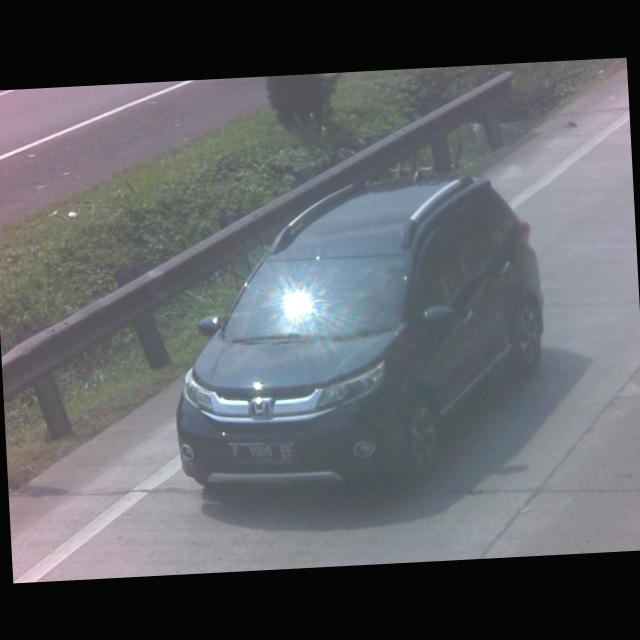plate: (228, 434, 296, 466)
